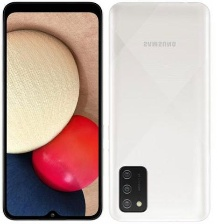phone: (104, 0, 212, 224), (1, 0, 105, 221)
